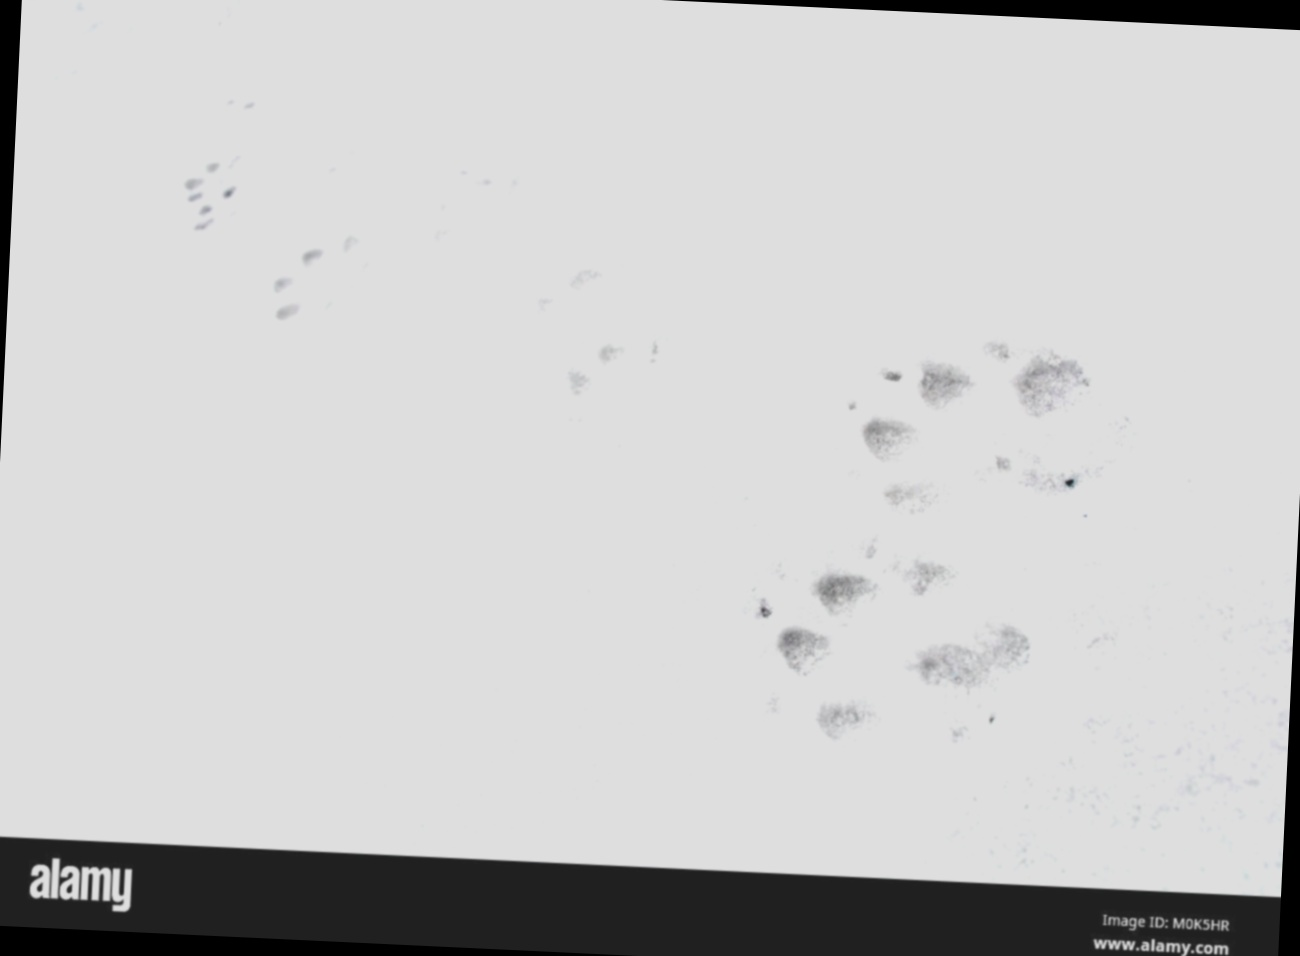loup: (728, 270, 1174, 804), (492, 228, 705, 449), (258, 208, 381, 332)
